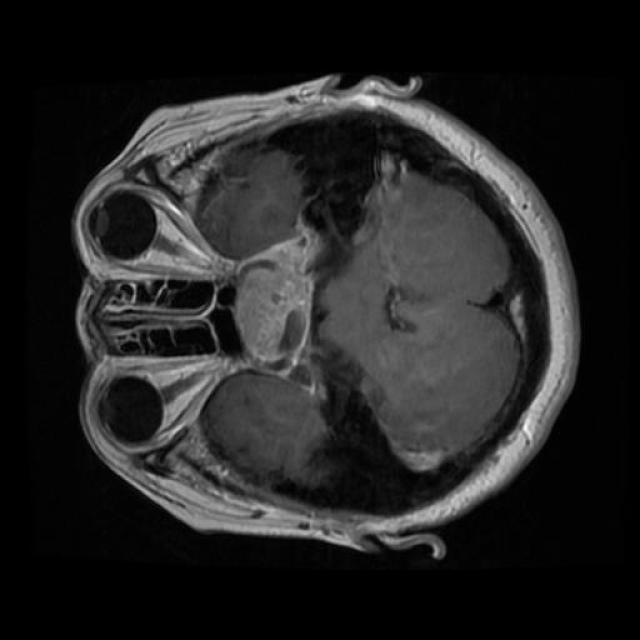Pituitary: (232, 237, 313, 393)
